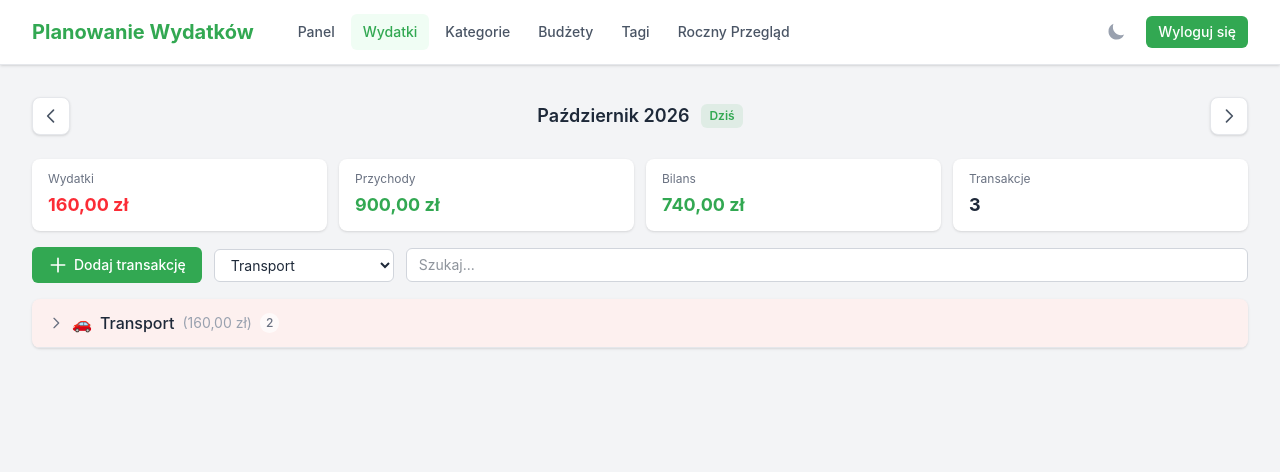
Test: deep links (audit P0-23 / Dashboard donut) › ?kategoria pre-selects that category and shows only its transactions
Expected: the text "160,00 zł" is shown, top-left (48, 194), bottom-right (128, 215)
Expected: the dropdown shows "Transport", top-left (214, 248), bottom-right (394, 282)
Click the button "🚗 Transport (160,00 zł) 2" at {"x": 137, "y": 323}, box top-left (32, 299), bottom-right (1248, 348)
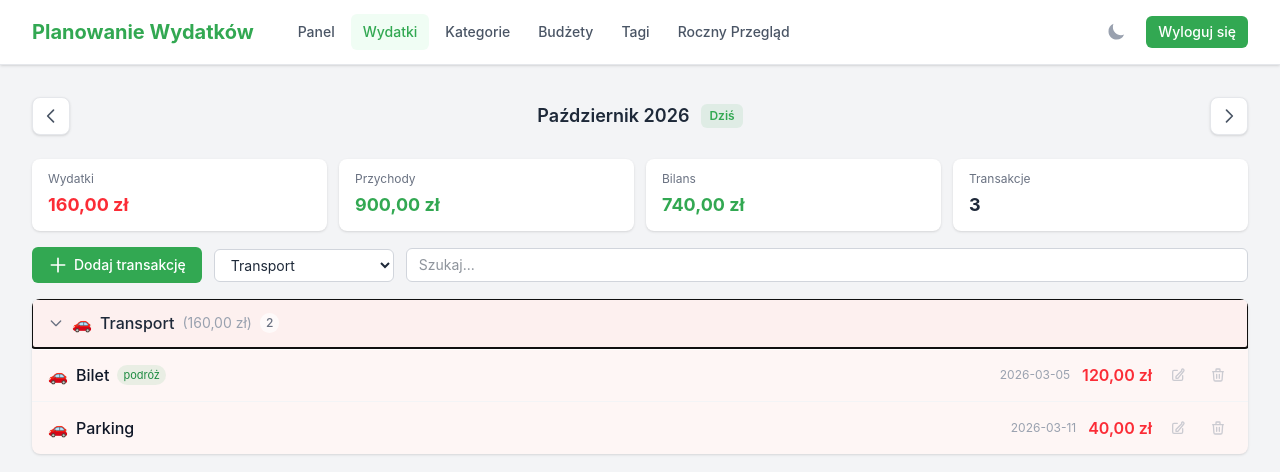
Now the text "Bilet" is shown, box top-left (76, 363), bottom-right (109, 387)
